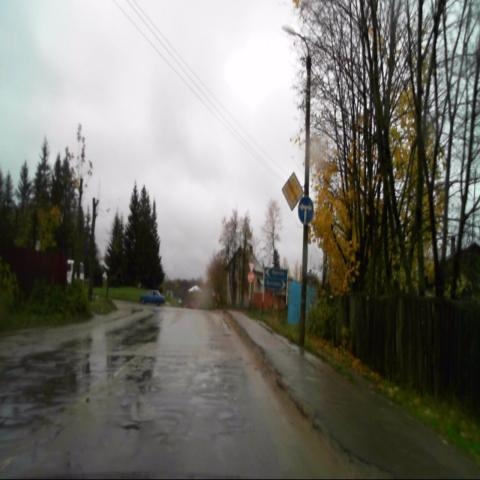2_2: (282, 172, 303, 211)
4_1_6: (298, 197, 313, 224)
